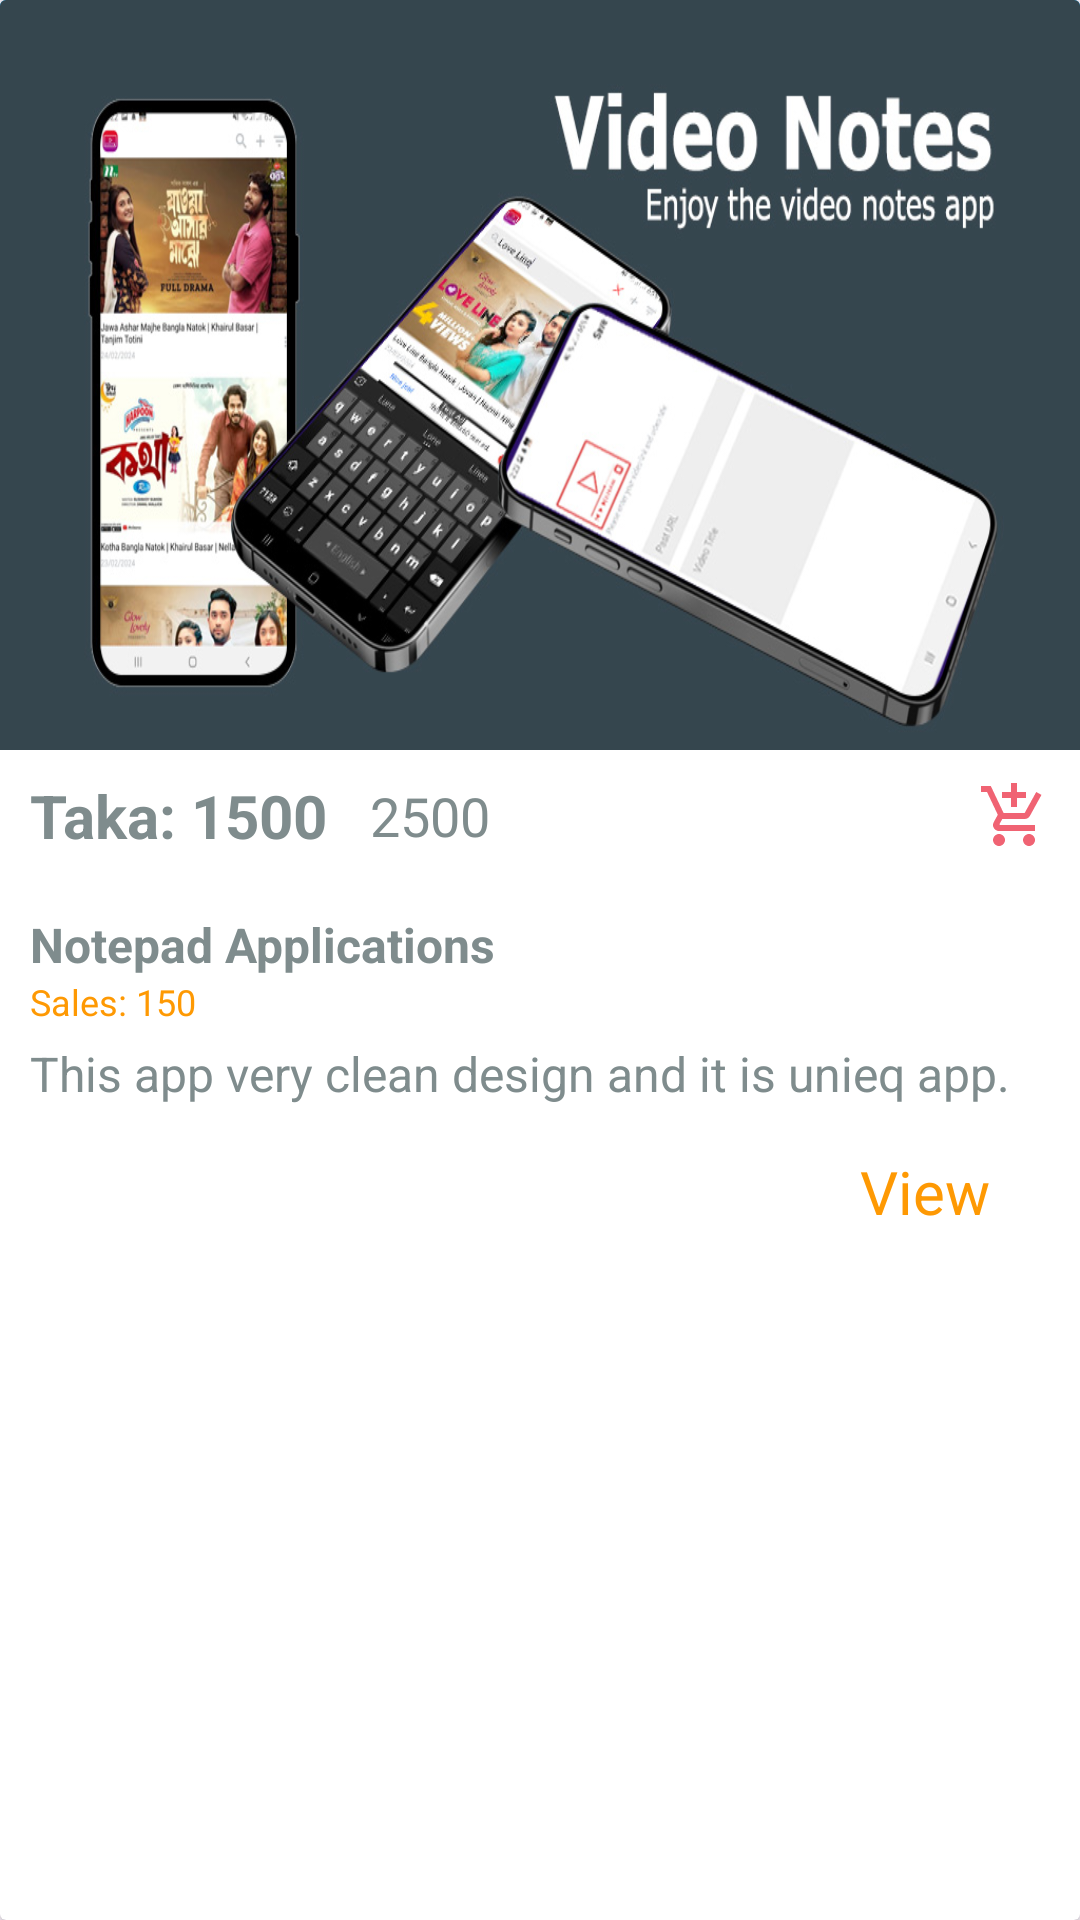

Named icons in this screenshot (1080px x 1920px) and their centers, (x,y):
cart: (1011,814)
